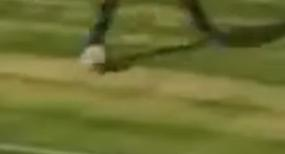ball: (77, 40, 116, 79)
